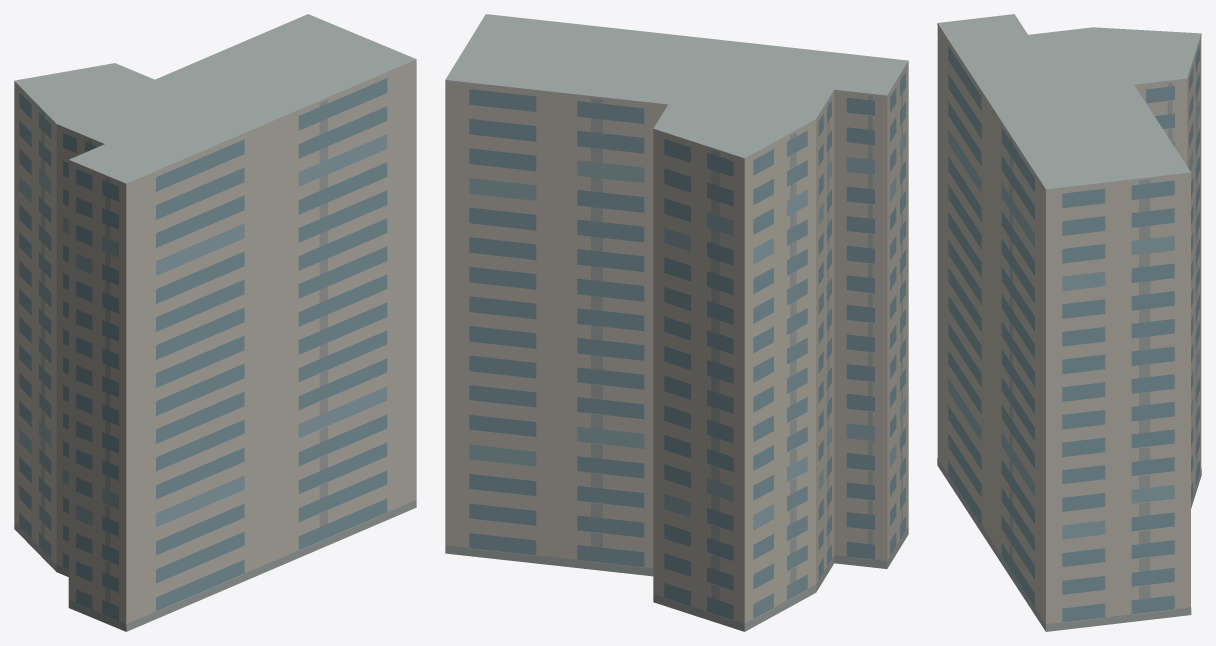
The model's file is residential-c2793d88-f336-4f35-859a-db0f6fccb1af.glb.
3 renders of one model, left to right at view 1: azimuth 30°, elevation 25°; view 2: azimuth 150°, elevation 25°; view 3: azimuth 270°, elevation 25°, orthographic. The views are drawn at different scales.
Parts seen in each view (by area): view 1: residential-c2793d88-f336-4f35-859a-db0f6fccb1af.tmp; view 2: residential-c2793d88-f336-4f35-859a-db0f6fccb1af.tmp; view 3: residential-c2793d88-f336-4f35-859a-db0f6fccb1af.tmp.
Boxes of the visible parts, x1,y1,x2,y2 form: residential-c2793d88-f336-4f35-859a-db0f6fccb1af.tmp: [14, 14, 416, 631]; residential-c2793d88-f336-4f35-859a-db0f6fccb1af.tmp: [445, 14, 908, 631]; residential-c2793d88-f336-4f35-859a-db0f6fccb1af.tmp: [937, 14, 1201, 631].
Bounding box in the file's own units: 42.5 × 50 × 27.04.
